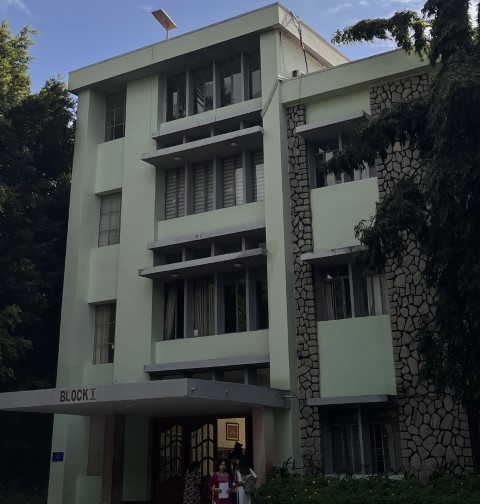Block 1: (57, 43, 480, 504)
